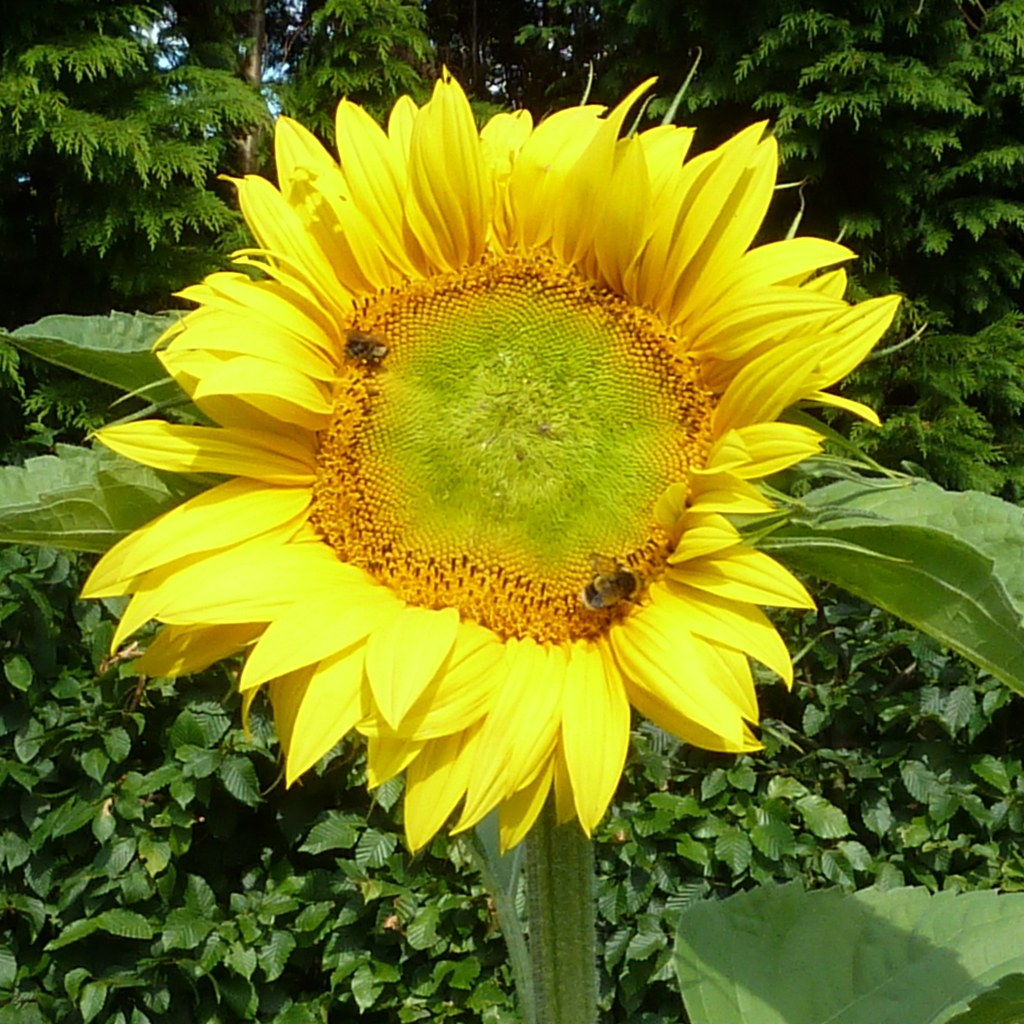bee: (582, 549, 643, 616)
insect: (76, 58, 903, 853)
